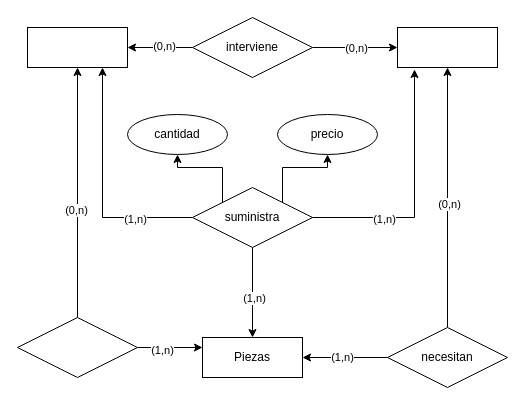
Image size: 525x405. Some labels were removed from this diagram. Here are the shapes that lost their labels. From the top down, the centre of each, then its label:
At point 77,47: "Proveedores".
At point 447,47: "Proyectos".
At point 77,347: "puede suministrar".
